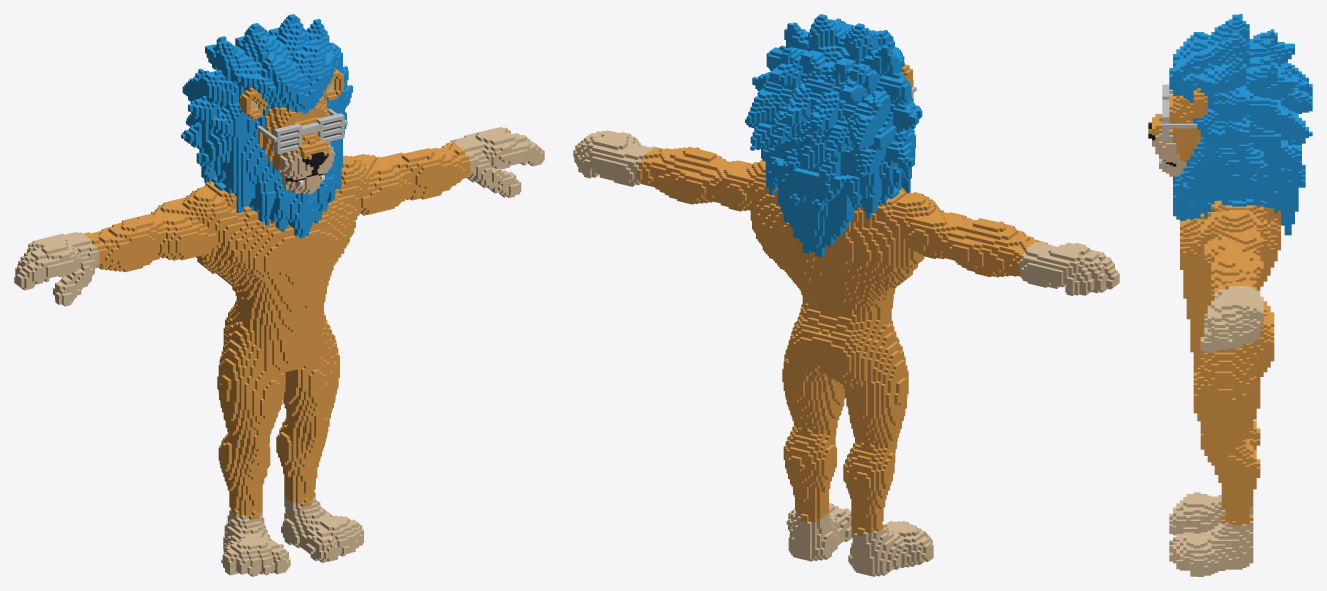
Rendered from 353-qodIMBJG.glb.
3 renders of one model, left to right at view 1: azimuth 30°, elevation 25°; view 2: azimuth 150°, elevation 25°; view 3: azimuth 270°, elevation 25°, orthographic. The views are drawn at different scales.
Visible parts, largest first — view 1: standard; view 2: standard; view 3: standard.
Part boxes in pixels (box(x1,y1,x2,y2)): standard: box(14, 14, 544, 576); standard: box(573, 14, 1119, 576); standard: box(1148, 14, 1312, 576).
Size of the model in its own units: 17.2 by 16.5 by 4.7.
4 materials, 4 textured.
